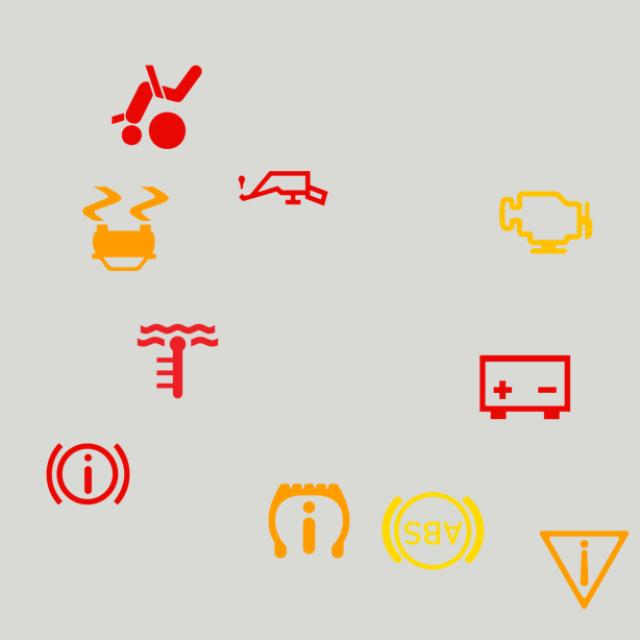Anti Lock Braking System: (377, 475, 489, 587)
Braking System Issue: (32, 418, 144, 530)
Charging System Issue: (469, 331, 581, 443)
Check Engine: (489, 166, 602, 278)
Electronic Stability Problem -ESP-: (70, 173, 182, 285)
Engine Overheating Warning Light: (122, 305, 234, 417)
Low Engine Oil Warning Light: (227, 132, 339, 244)
Low Tire Pressure Warning Light: (253, 464, 365, 576)
Master warning light: (528, 514, 640, 626)
SRS-Airbag: (101, 51, 213, 163)
